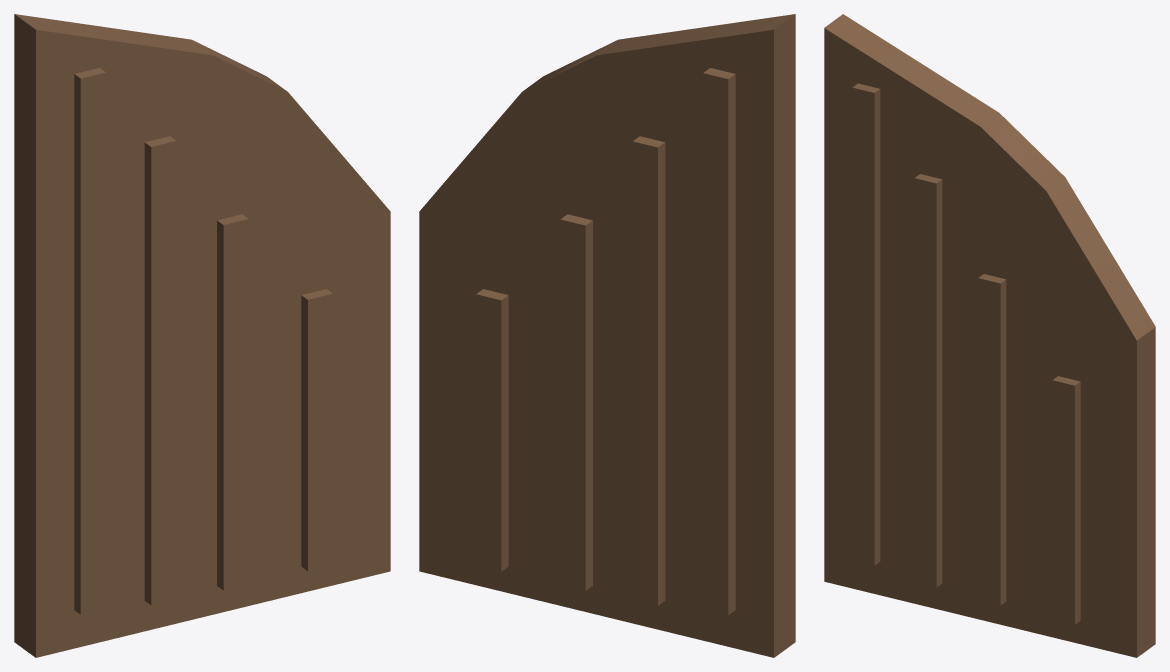
The model's file is ChurchExteriorFrontGate.fbx.
The picture shows the model from 3 angles, left to right: view 1: azimuth 30°, elevation 25°; view 2: azimuth 150°, elevation 25°; view 3: azimuth 330°, elevation 25°; orthographic projection. The views are drawn at different scales.
Parts seen in each view (by area): view 1: pCube433; view 2: pCube433; view 3: pCube433.
Boxes of the visible parts, x1=… form: pCube433: x1=14, y1=14, x2=390, y2=657; pCube433: x1=419, y1=14, x2=795, y2=657; pCube433: x1=824, y1=14, x2=1155, y2=657.
Size of the model in its own units: 1.28 by 2.17 by 0.22.
